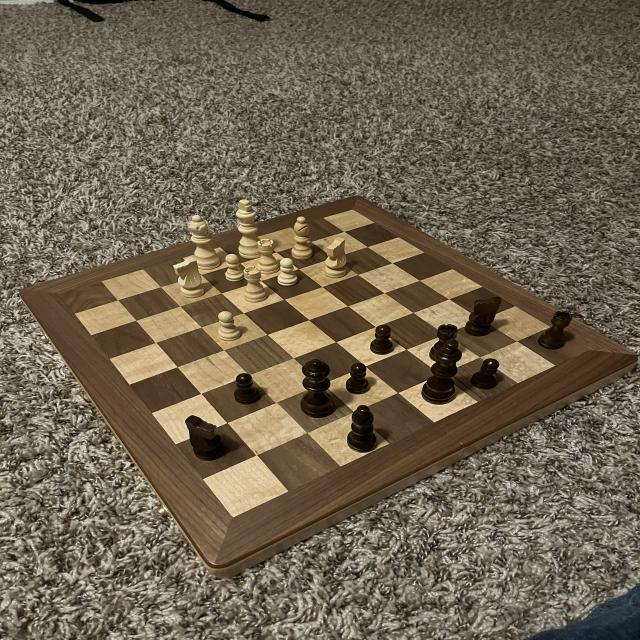bishop: (343, 400, 382, 459)
black-bishop: (421, 335, 465, 409)
black-king: (183, 413, 226, 464), (463, 292, 507, 338)
black-knight: (232, 370, 264, 408), (472, 354, 504, 392), (344, 358, 375, 397), (366, 321, 396, 358)
black-pawn: (296, 356, 337, 419)
black-queen: (537, 307, 575, 351), (425, 320, 460, 364)
black-rook: (285, 211, 319, 262)
white-bishop: (229, 194, 268, 260)
white-king: (169, 255, 213, 300), (323, 235, 350, 280)
white-knight: (215, 308, 245, 345), (274, 256, 302, 288), (224, 249, 246, 283)
white-pawn: (185, 210, 222, 272)
white-queen: (240, 263, 271, 303), (257, 237, 279, 273)
